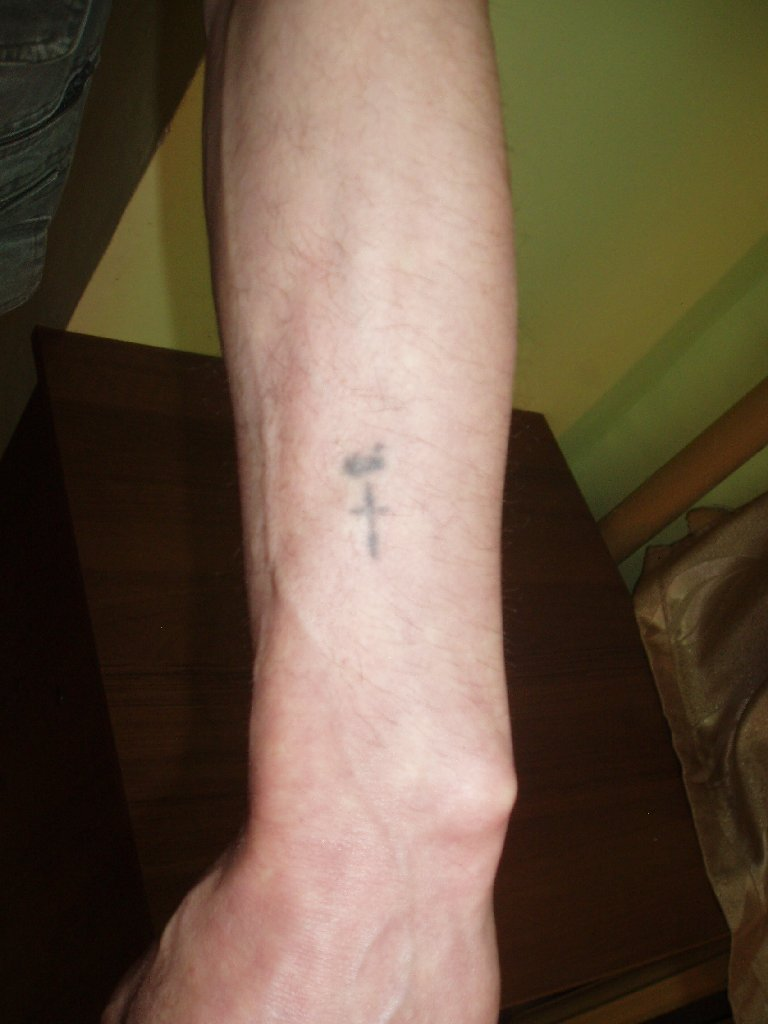tatu9_krest: (335, 476, 406, 560)
